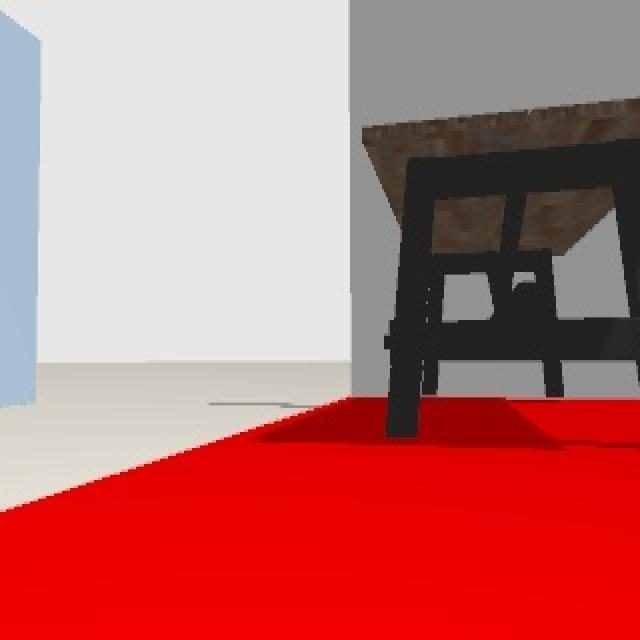dining: (360, 116, 640, 436)
